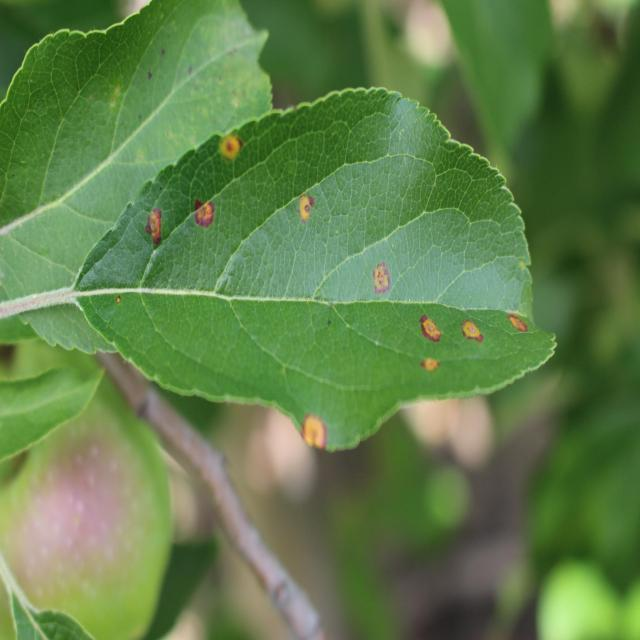Rust: (296, 402, 342, 470), (207, 123, 265, 169), (184, 189, 228, 249), (403, 307, 454, 350), (141, 189, 170, 254), (459, 309, 494, 360), (291, 184, 323, 235), (369, 252, 398, 306), (503, 301, 536, 348), (409, 351, 449, 377)
